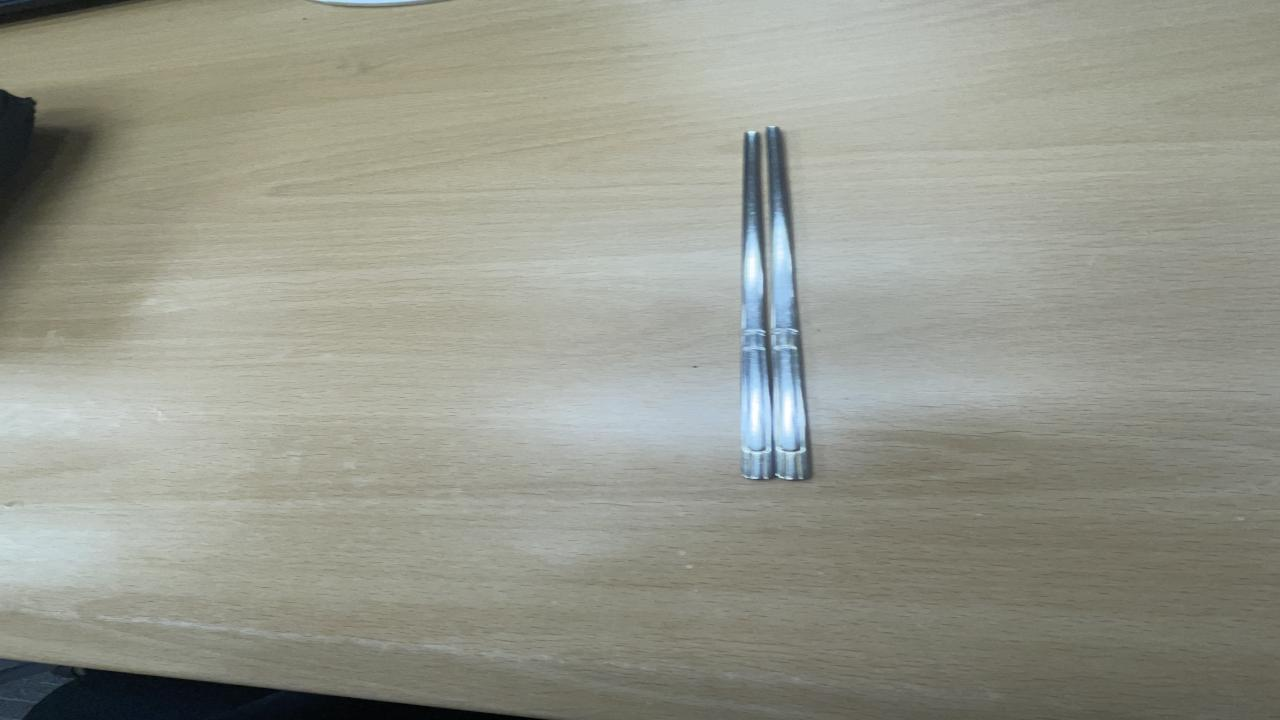chopstick: (734, 122, 817, 482)
